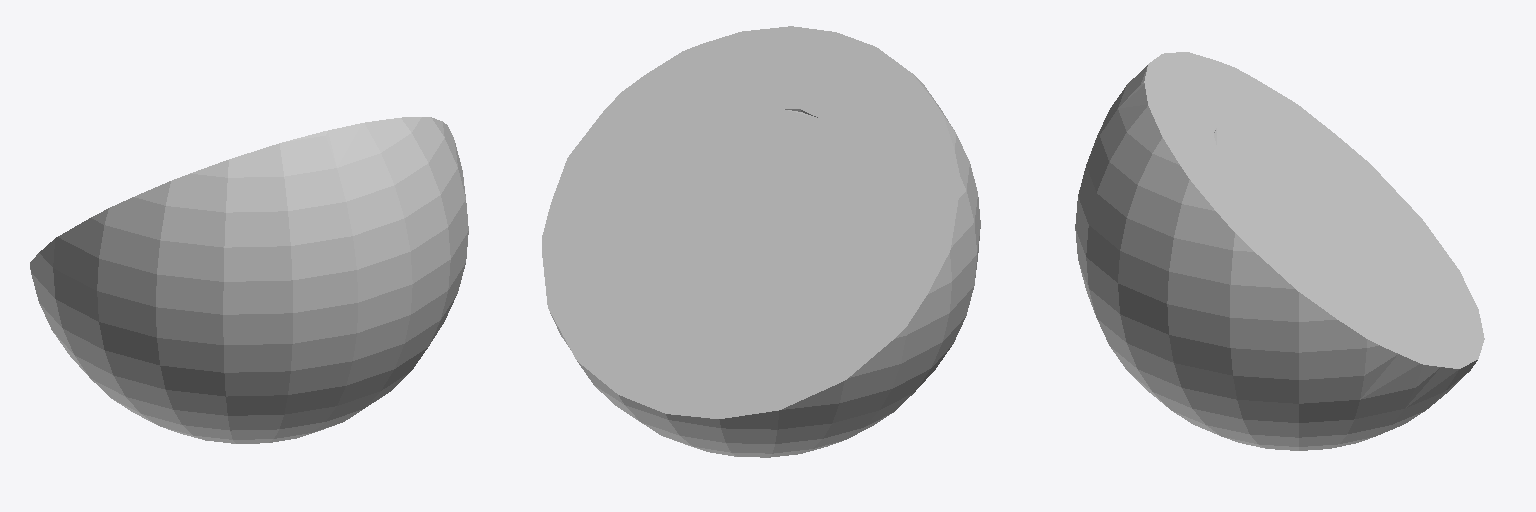
The model's file is bomb_cut_1.obj.
3 renders of one model, left to right at view 1: azimuth 30°, elevation 25°; view 2: azimuth 150°, elevation 25°; view 3: azimuth 270°, elevation 25°, orthographic.
Parts seen in each view (by area): view 1: mmGroup2; view 2: mmGroup3, mmGroup2; view 3: mmGroup2, mmGroup3.
Part boxes in pixels (x1,y1,x2,y2): mmGroup2: (30,117,468,443); mmGroup3: (542,26,959,418); mmGroup2: (550,74,980,457); mmGroup2: (1075,65,1477,450); mmGroup3: (1144,52,1484,368).
Size of the model in its own units: 1.2 by 1.03 by 1.1.